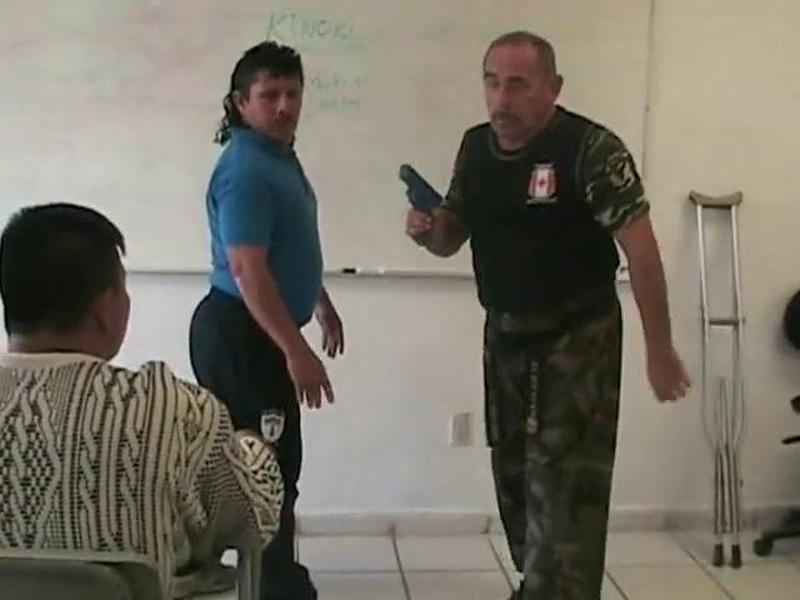Pistola: (390, 153, 463, 247)
